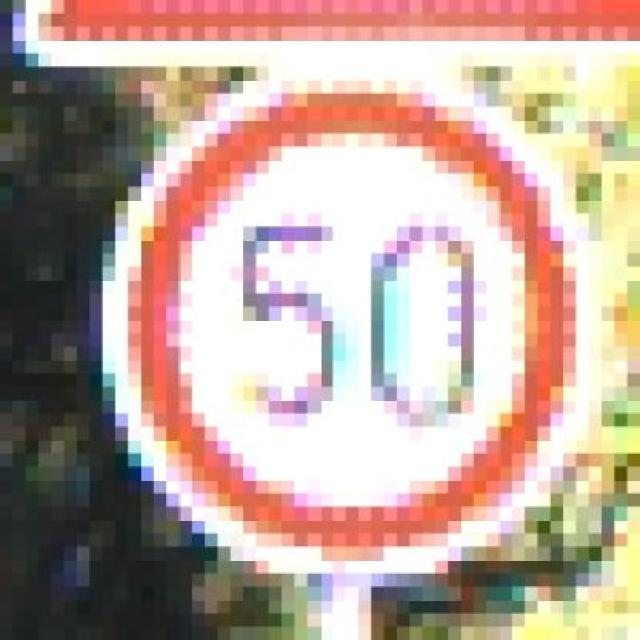forb_speed_over_50: (120, 83, 582, 554)
